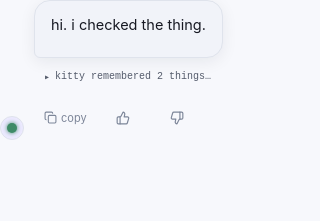
Scenario: ChatMessage memory block (CR-05) › expands to list the memories and collapses again
The image size is (320, 221).
Click the button "▸ kitty remembered 2 things…": (128, 77) [40, 61, 215, 93]
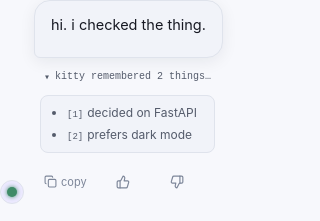
Expected: the number of list items is 2, [67, 104, 202, 122]; [67, 126, 202, 144]
Expected: the text "decided on FastAPI" is shown, [87, 105, 197, 120]
Expected: the text "prefers dark mode" is shown, [87, 127, 192, 142]
Click the button "▾ kitty remembered 2 things…": (128, 77) [40, 61, 215, 93]
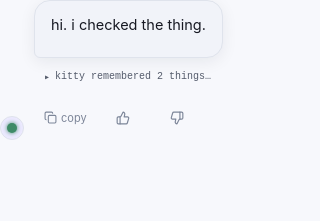
Expected: the text "decided on FastAPI" is gone
